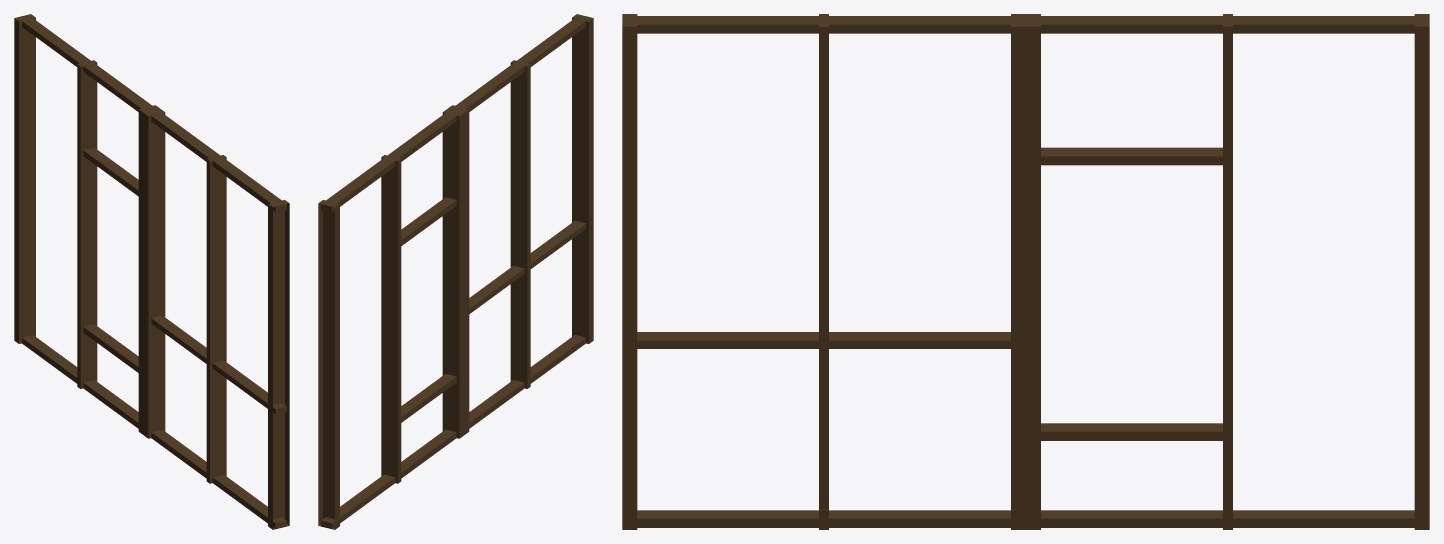
The model's file is SM_basementWall_01.gltf.
3 views of the same model, side by side, from view 1: azimuth 30°, elevation 25°; view 2: azimuth 150°, elevation 25°; view 3: azimuth 270°, elevation 25° (orthographic). The views are drawn at different scales.
Parts seen in each view (by area): view 1: SM_basementWall_01; view 2: SM_basementWall_01; view 3: SM_basementWall_01.
Part boxes in pixels (bbox=[...]): SM_basementWall_01: bbox=[14, 14, 289, 529]; SM_basementWall_01: bbox=[318, 14, 593, 529]; SM_basementWall_01: bbox=[622, 14, 1429, 529].
Bounding box in the file's own units: 0.15 × 2.75 × 4.
